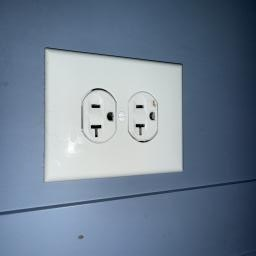outlet: (42, 54, 186, 183)
